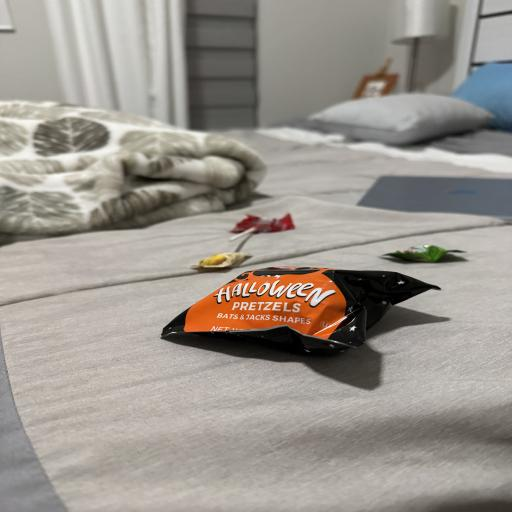chocolate: (163, 267, 440, 353), (384, 245, 464, 262), (231, 214, 295, 233), (191, 252, 250, 269)
